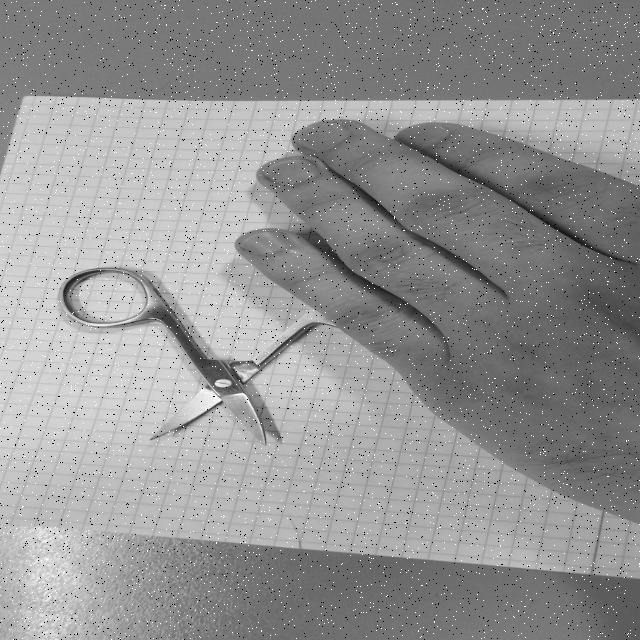scissors: (57, 261, 423, 446)
